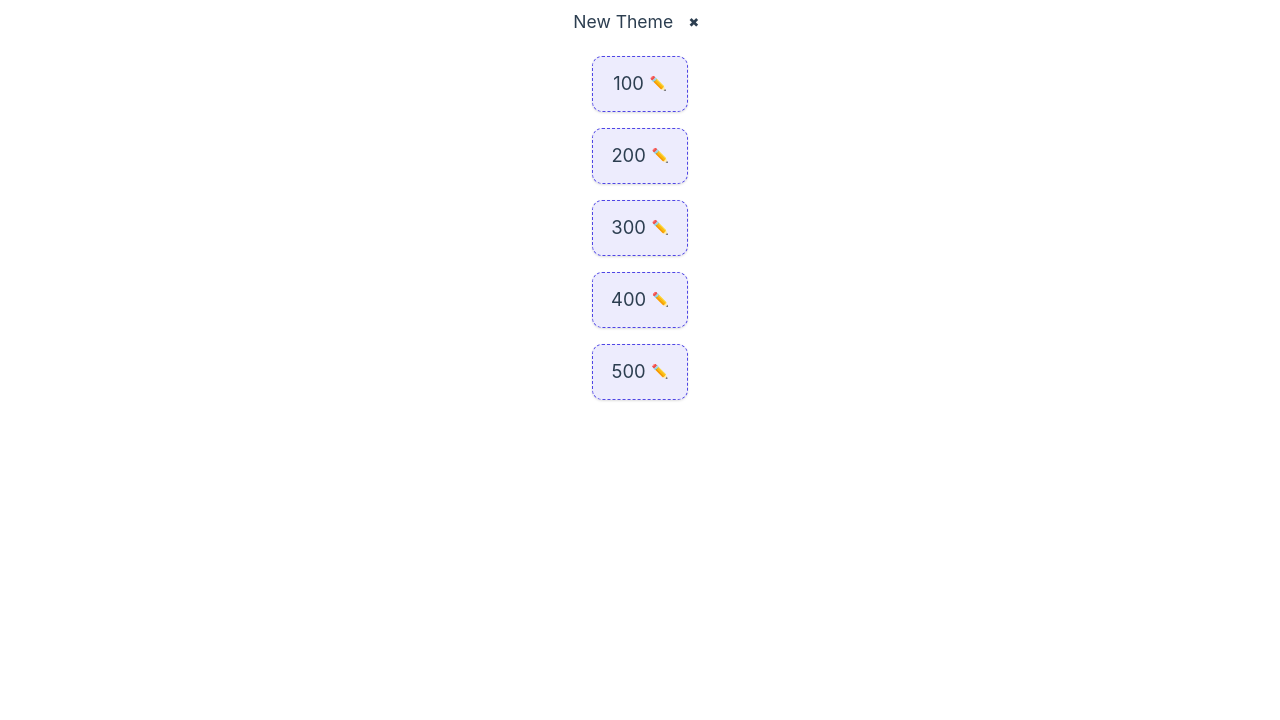
Test case: QuizshowTable › opens the dialog in edit mode when clicking a card
Click the button "100 ✏️" at (640, 84), box [592, 56, 688, 112]
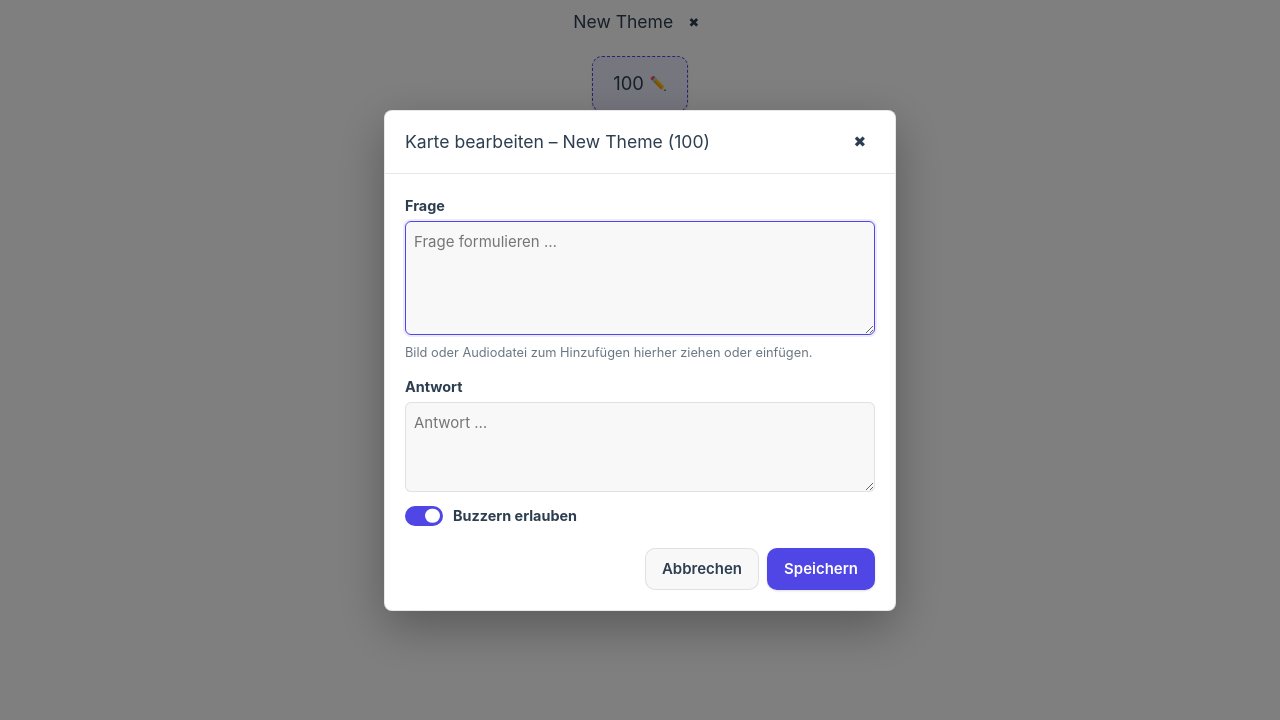
Check: the element that starts with "Karte bearbeiten – New Theme (100)" is shown
